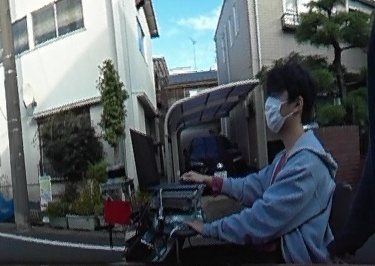person: (240, 61, 331, 266)
